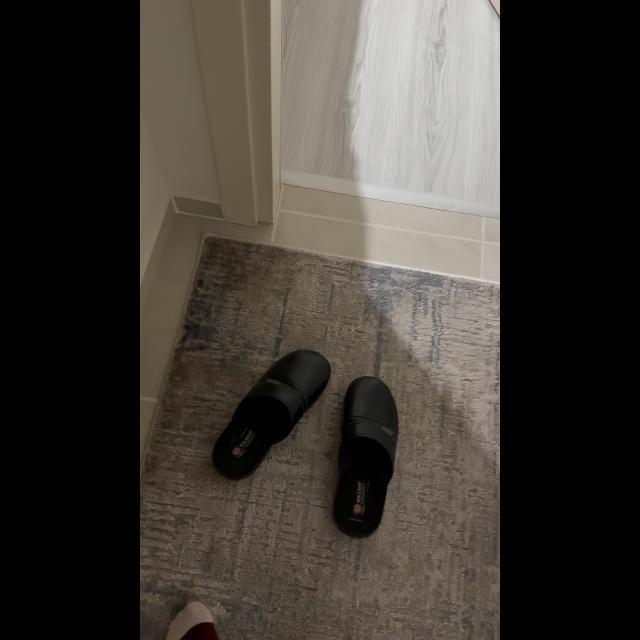slipper: (208, 341, 338, 485), (326, 372, 404, 538)
